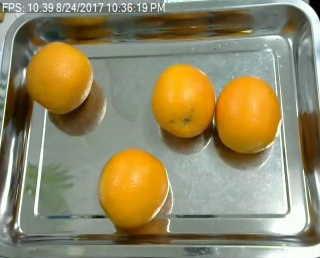Orange: (100, 148, 170, 228), (215, 74, 282, 152), (25, 41, 93, 113), (152, 63, 216, 137)
